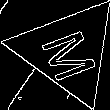M_E: (34, 19, 102, 82)
